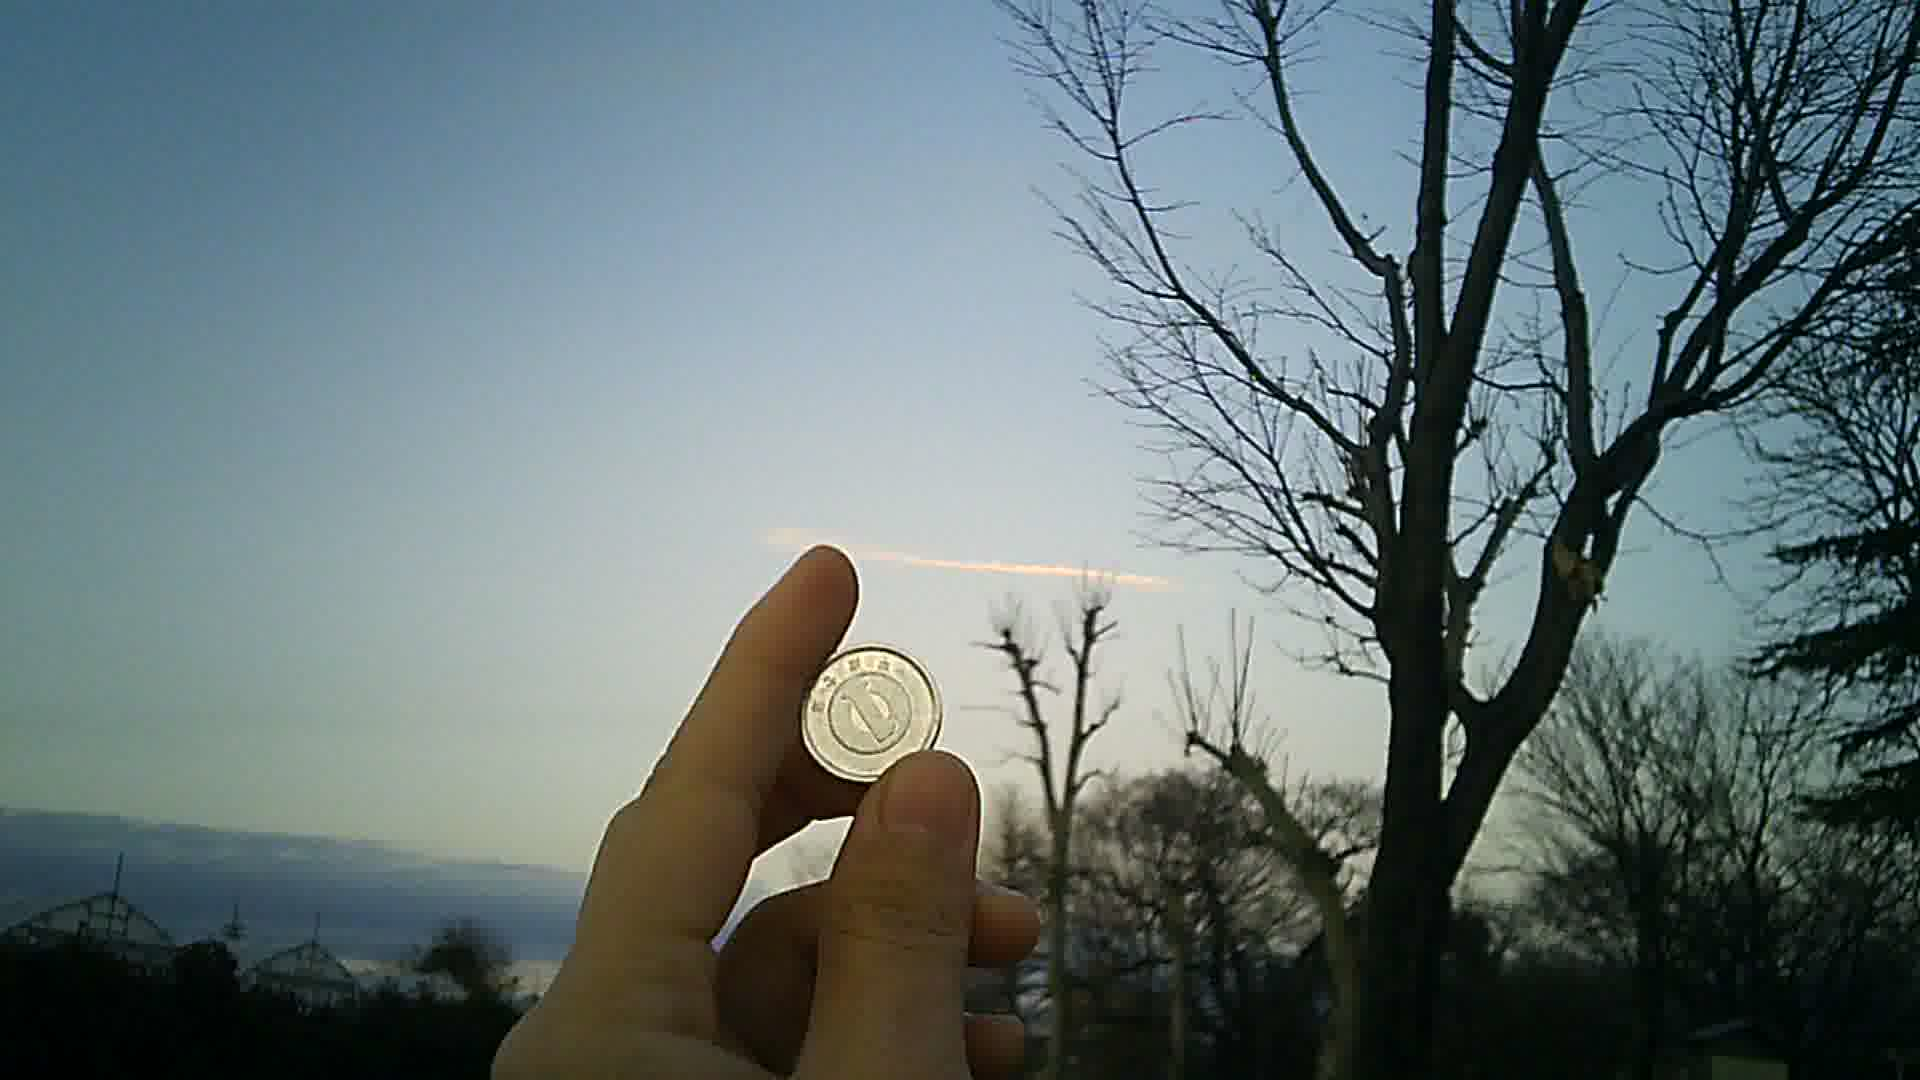1 Yen: (785, 633, 957, 786)
